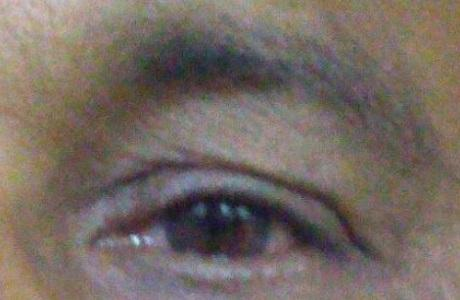open: (70, 148, 375, 300)
